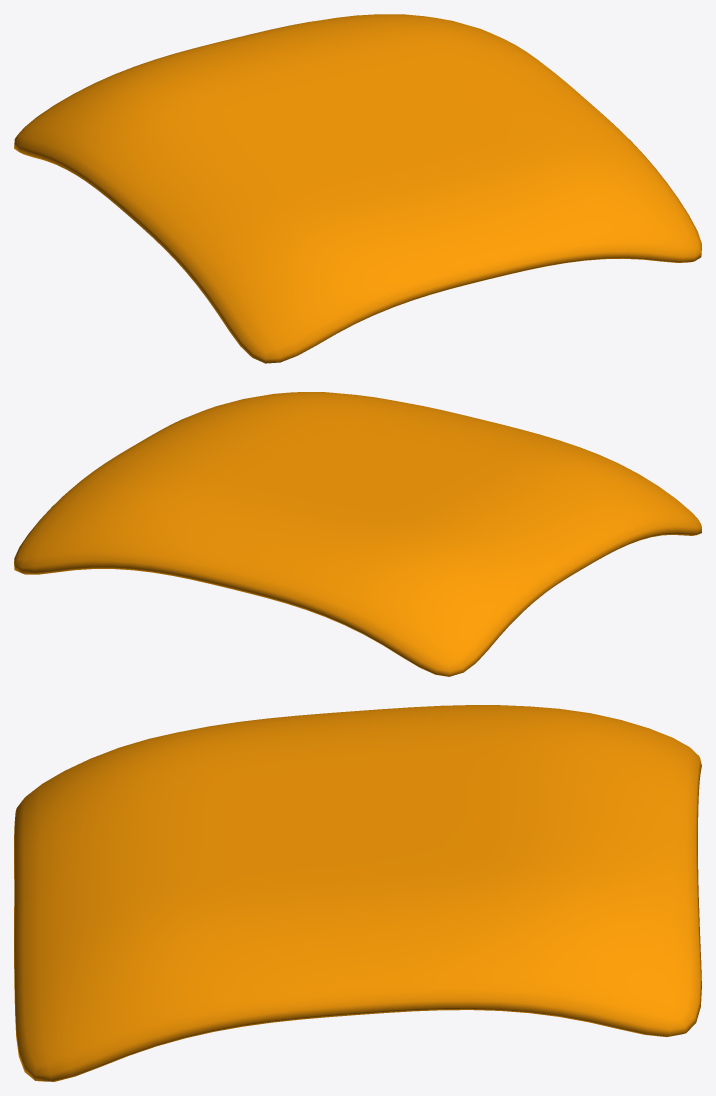
Rendered from CutCheese.fbx.
3 views of the same model, one above another, from view 1: azimuth 30°, elevation 25°; view 2: azimuth 150°, elevation 25°; view 3: azimuth 270°, elevation 25° (orthographic). The views are drawn at different scales.
Parts seen in each view (by area): view 1: Cheese; view 2: Cheese; view 3: Cheese.
Boxes of the visible parts, x1,y1,x2,y2 form: Cheese: [14, 14, 701, 363]; Cheese: [14, 392, 701, 676]; Cheese: [14, 705, 701, 1081].
Bounding box in the file's own units: 212 × 47.54 × 212.
